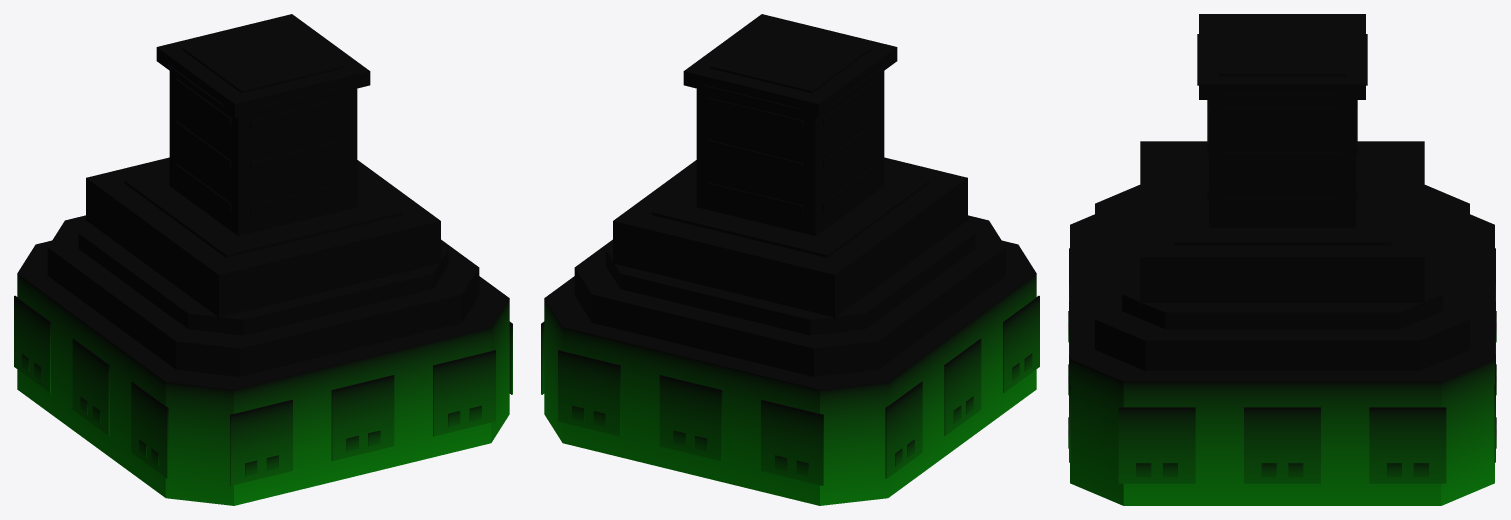
The model's file is hub.glb.
The picture shows the model from 3 angles, left to right: view 1: azimuth 30°, elevation 25°; view 2: azimuth 150°, elevation 25°; view 3: azimuth 270°, elevation 25°; orthographic projection. The views are drawn at different scales.
Visible parts, largest first — view 1: lod0; view 2: lod0; view 3: lod0.
Part boxes in pixels (x1,y1,x2,y2): lod0: (14,14,512,505); lod0: (541,14,1039,505); lod0: (1068,14,1496,505).
Size of what is drawn, in the model's own units: 25.62 by 24.35 by 25.62.
